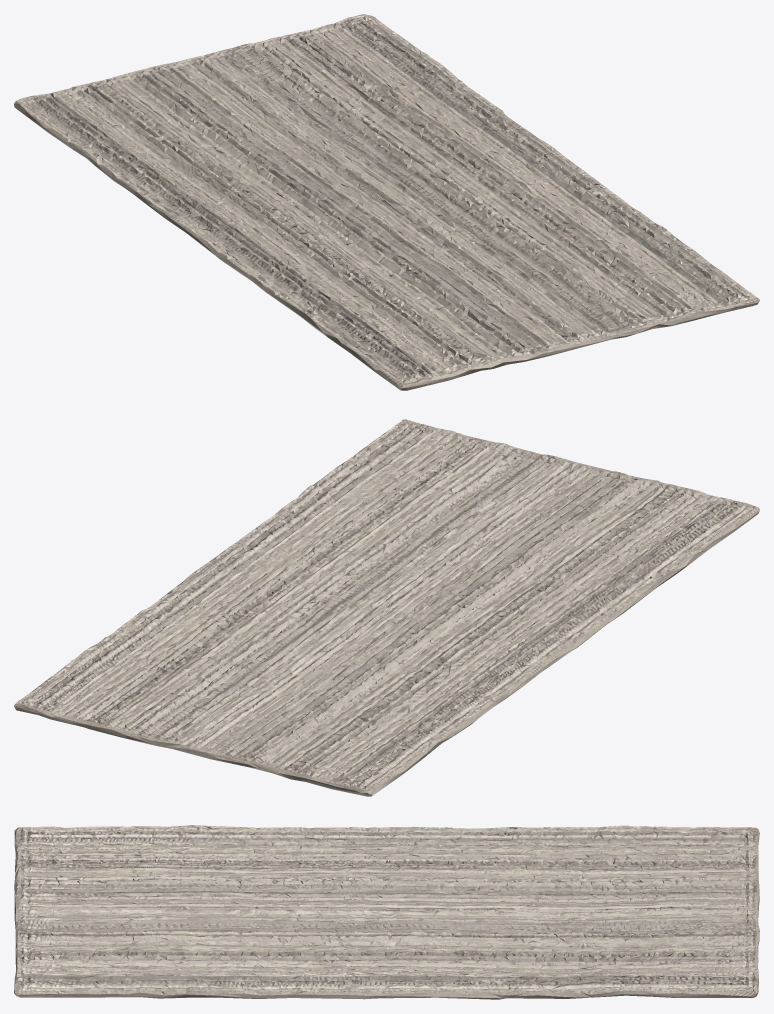
The picture shows the model from 3 angles, top to bottom: view 1: azimuth 30°, elevation 25°; view 2: azimuth 150°, elevation 25°; view 3: azimuth 270°, elevation 25°; orthographic projection. The views are drawn at different scales.
Visible parts, largest first — view 1: Mesh_0; view 2: Mesh_0; view 3: Mesh_0.
Part boxes in pixels (box(x1,y1,x2,y2)): Mesh_0: box(14, 14, 759, 390); Mesh_0: box(14, 419, 759, 796); Mesh_0: box(14, 825, 759, 999).
Bounding box in the file's own units: 1.74 × 0.0615 × 3.26.
1 material, 1 textured.
